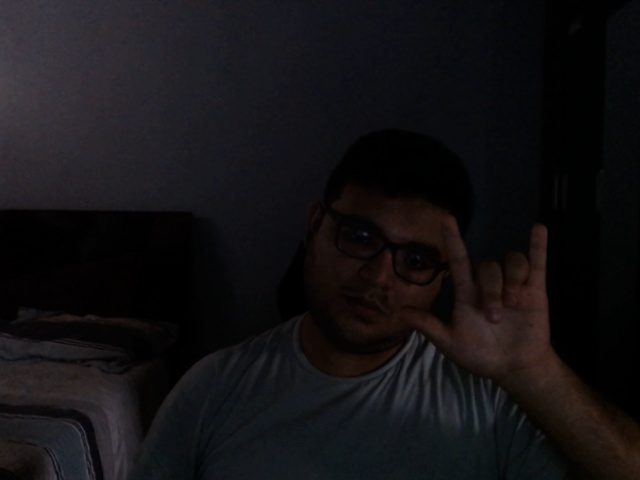I love you: (402, 211, 565, 384)
